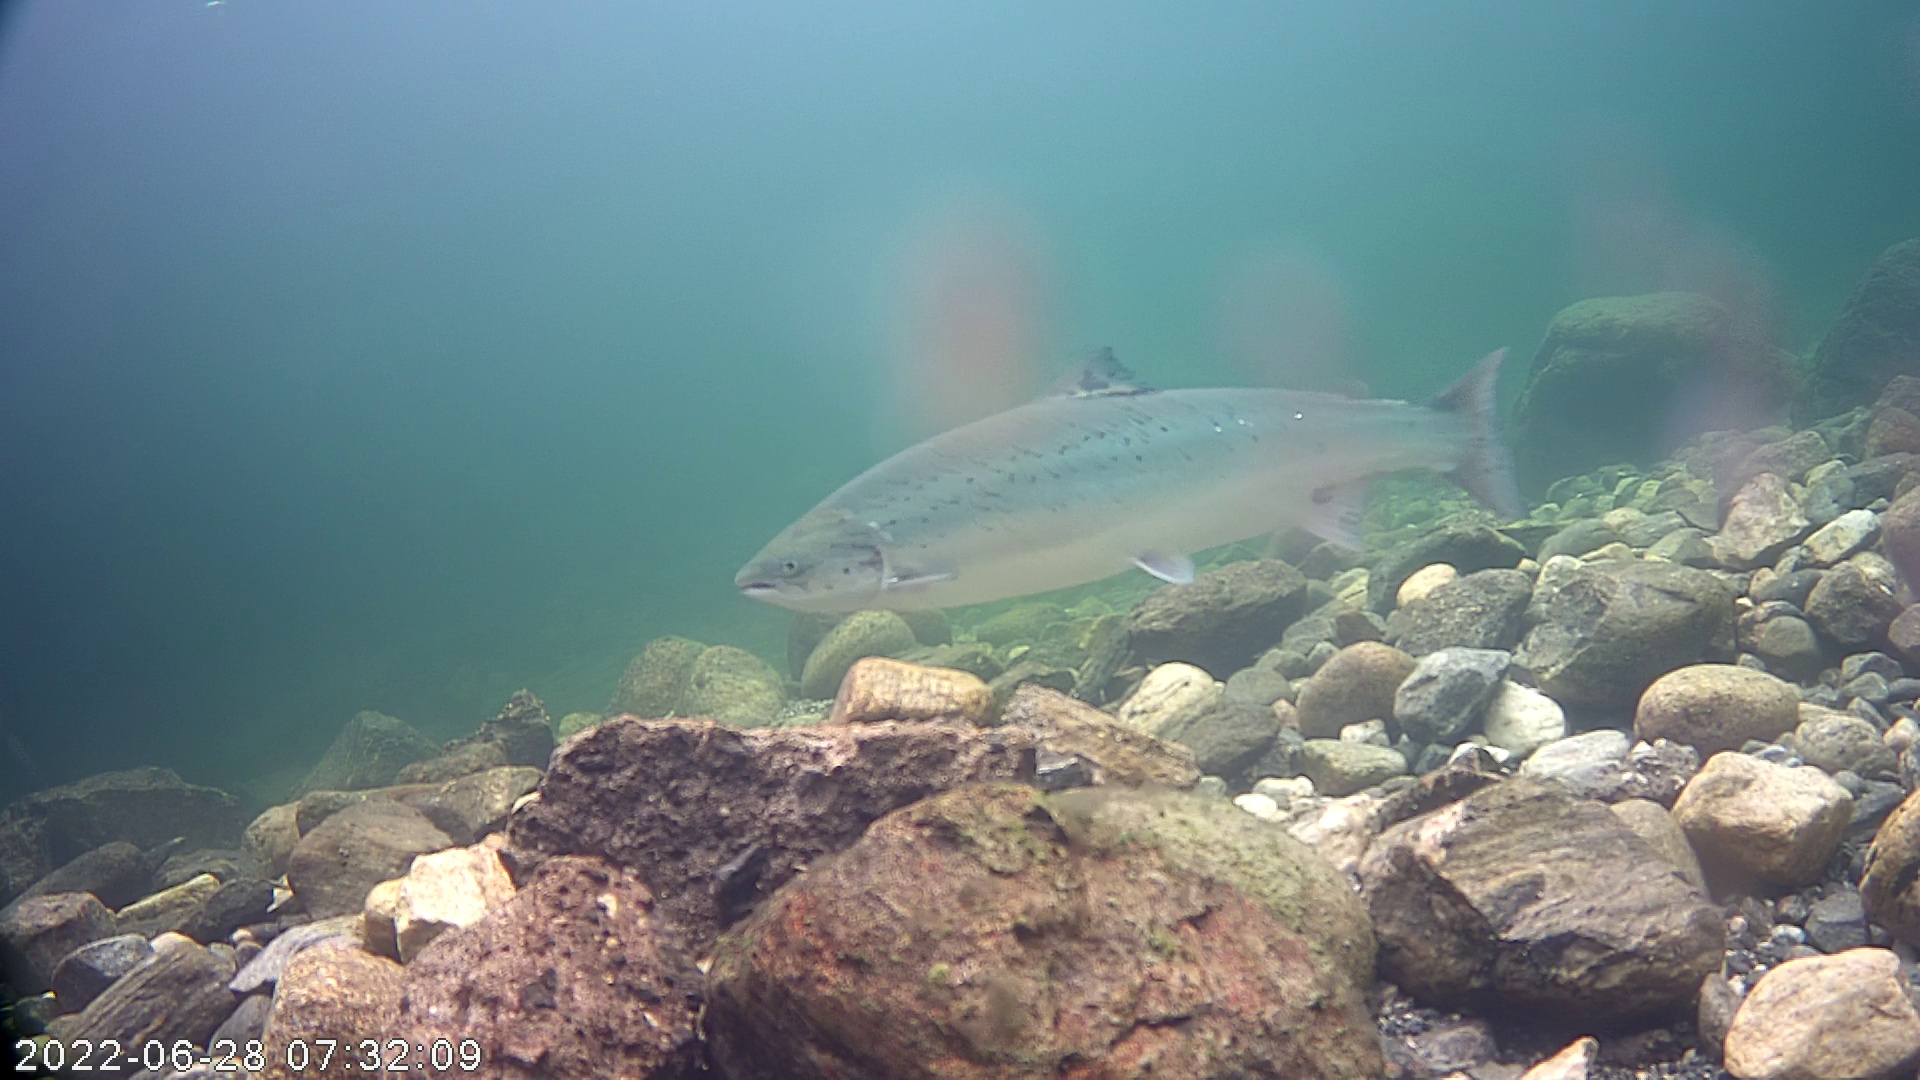salmon: (724, 244, 1561, 670)
